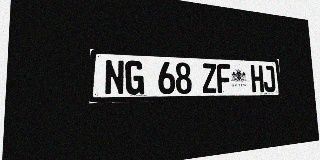6: (158, 61, 175, 94)
8: (175, 62, 192, 94)
F: (216, 64, 231, 93)
G: (125, 60, 144, 95)
H: (250, 65, 264, 92)
J: (263, 65, 276, 92)
N: (104, 59, 125, 95)
Z: (202, 63, 217, 93)
